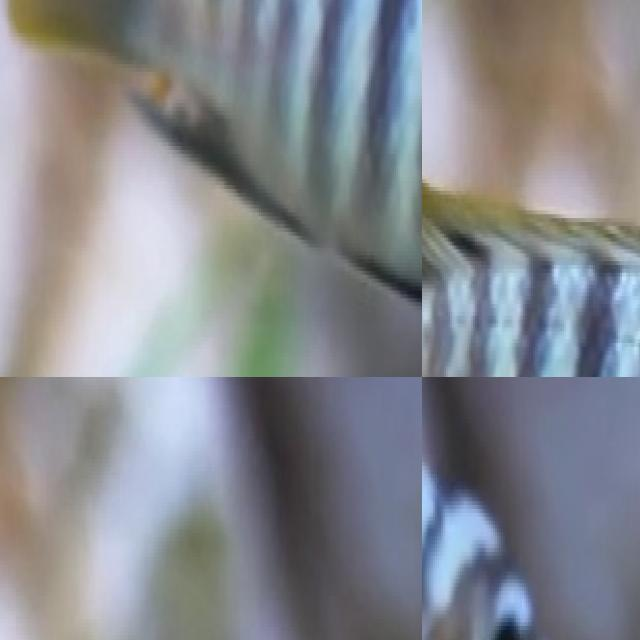fish: (0, 0, 422, 377), (422, 136, 640, 377)
